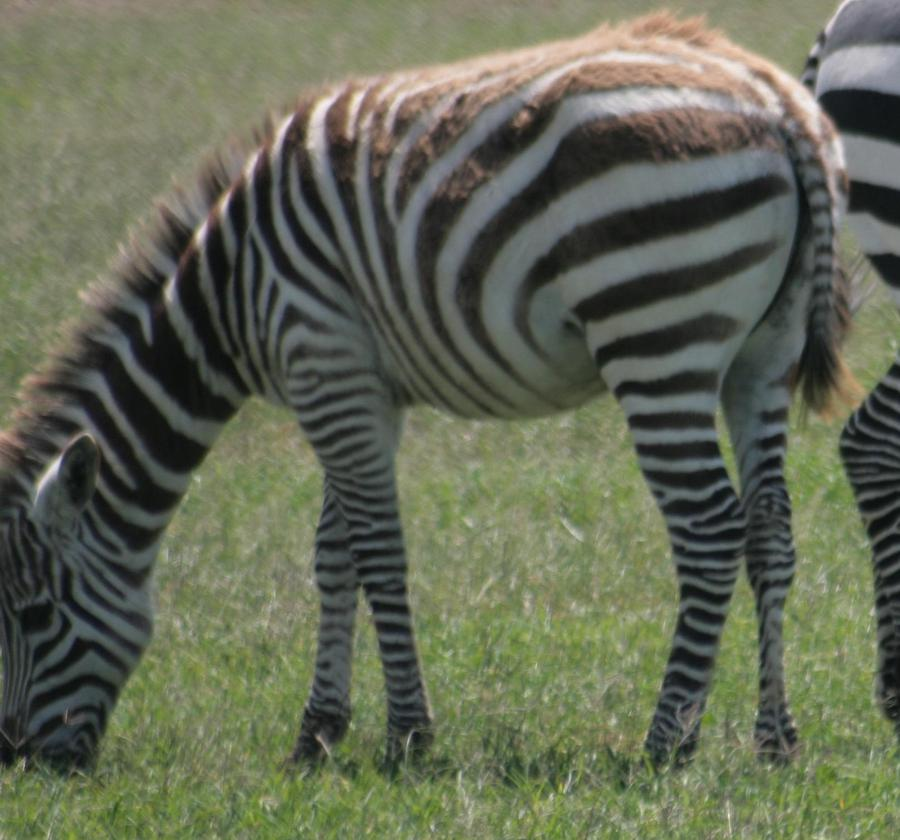zebra_plains: (204, 79, 777, 452)
